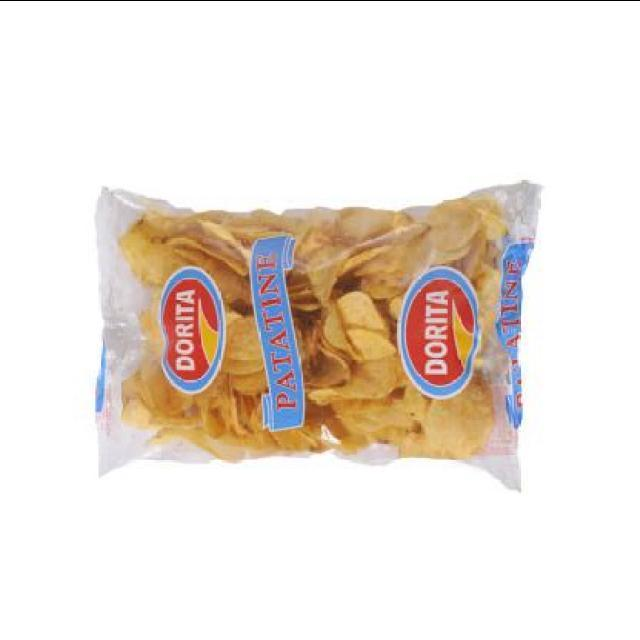Chips: (92, 172, 548, 492)
